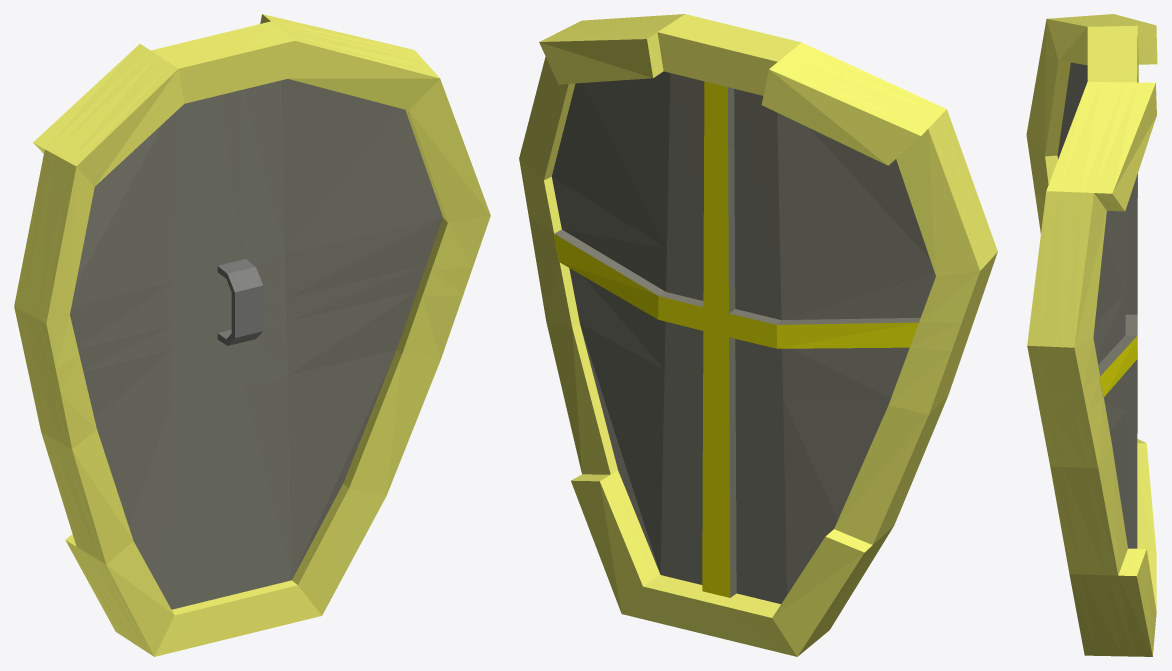
Rendered from Shield.fbx.
3 renders of one model, left to right at view 1: azimuth 30°, elevation 25°; view 2: azimuth 150°, elevation 25°; view 3: azimuth 270°, elevation 25°, orthographic. The views are drawn at different scales.
Parts seen in each view (by area): view 1: pPlane2, pCube1; view 2: pPlane2; view 3: pPlane2.
Boxes of the visible parts, x1=… form: pPlane2: x1=14, y1=14, x2=490, y2=656; pCube1: x1=217, y1=259, x2=263, y2=345; pPlane2: x1=519, y1=14, x2=997, y2=656; pPlane2: x1=1026, y1=14, x2=1157, y2=656.
Bounding box in the file's own units: 1.32 × 1.59 × 0.3371.
